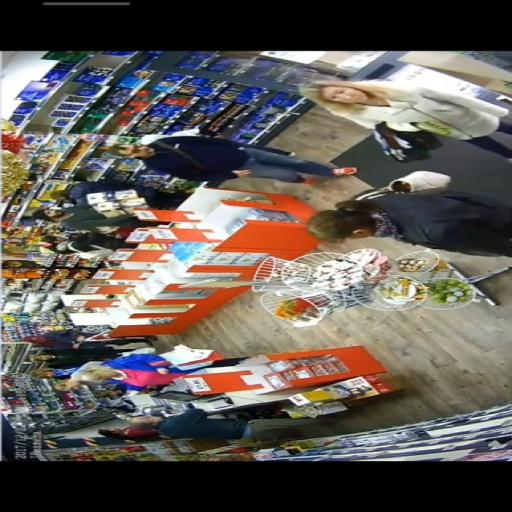workers: (65, 354, 198, 392), (29, 332, 131, 370), (37, 197, 126, 231), (49, 229, 122, 258)
